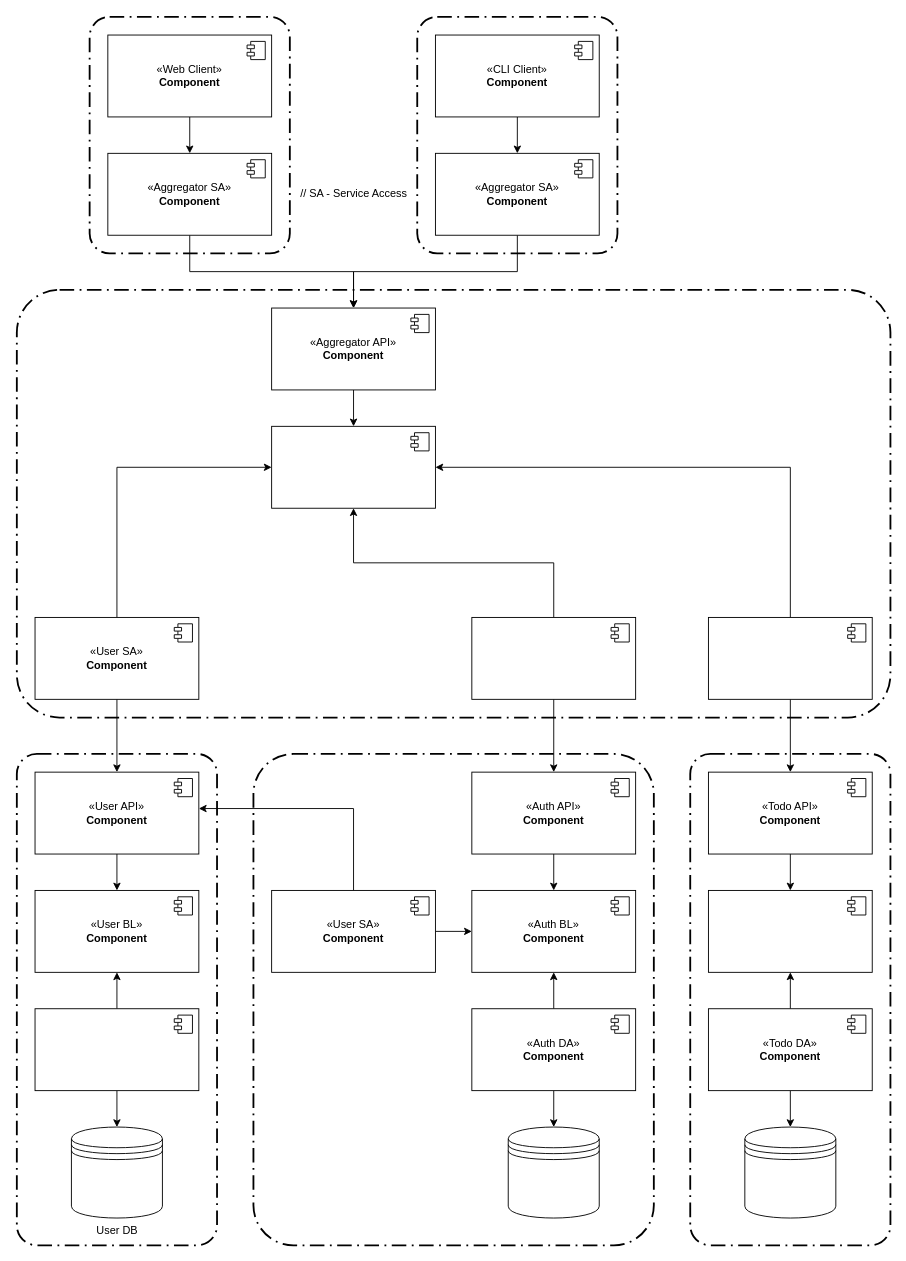
This 906x1261 diagram has some shape labels left out. Here are the shapes that lost their labels. From the top down, the centre of each, then its label:
At [353,466]: "«Aggregator BL» Component".
At [553,658]: "«Auth SA» Component".
At [790,658]: "«Todo SA» Component".
At [790,931]: "«Todo BL» Component".
At [116,1049]: "«User DA» Component".
At [553,1172]: "Auth DB".
At [790,1172]: "Todo DB".
